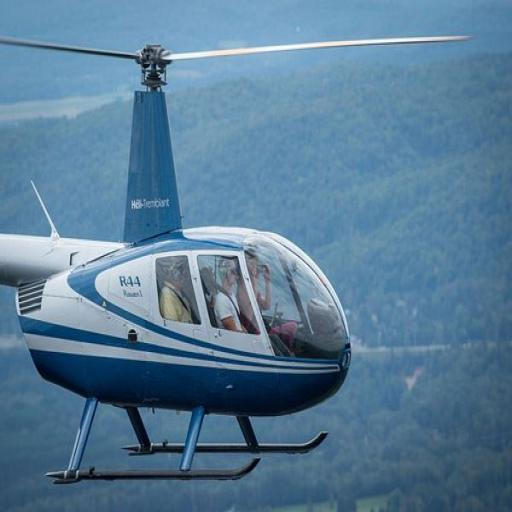helicopter: (2, 25, 353, 486)
